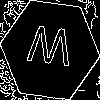W: (25, 25, 74, 75)
